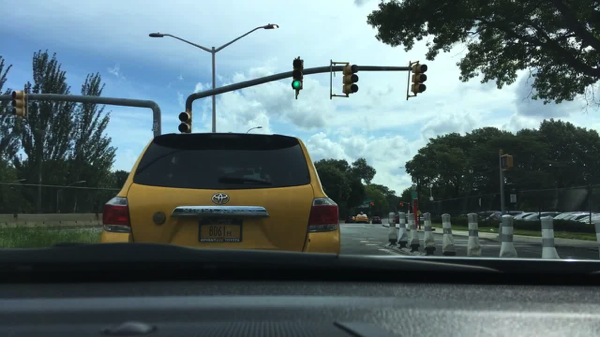car: (100, 131, 341, 256), (480, 211, 523, 229), (523, 212, 562, 228), (549, 210, 579, 228), (467, 209, 496, 226), (579, 212, 600, 232), (508, 210, 535, 225), (453, 213, 474, 226), (445, 213, 465, 225), (390, 214, 408, 224), (356, 211, 368, 224), (430, 212, 445, 220), (372, 216, 382, 225), (346, 214, 355, 223)
traffic light: (341, 65, 359, 95), (12, 89, 28, 117), (291, 57, 303, 92), (410, 64, 425, 92), (179, 112, 190, 132), (499, 155, 514, 169), (368, 201, 374, 208), (399, 200, 403, 206)
traffic sign: (509, 193, 518, 205), (411, 194, 418, 200), (411, 185, 417, 191)
